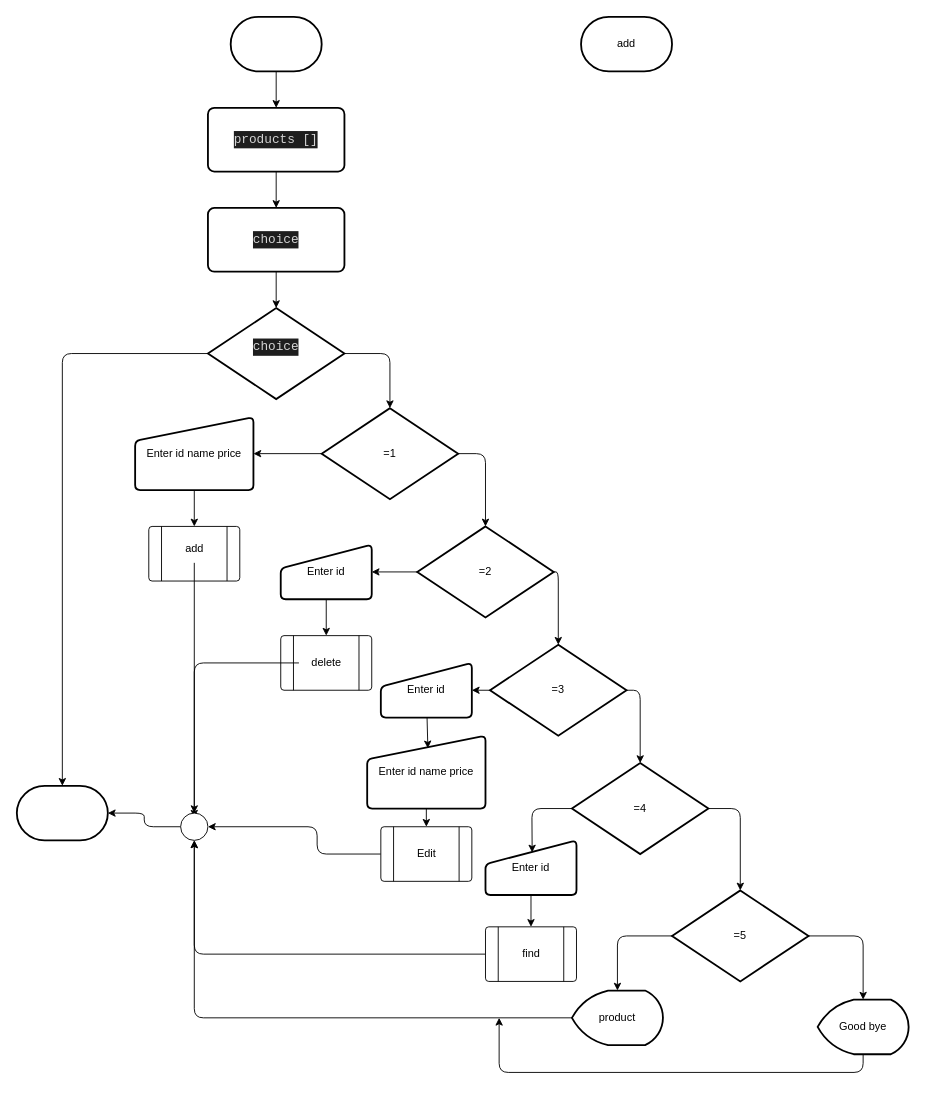
This 925x1096 diagram has some shape labels left out. The shapes that lost their labels are listed below. From the top down, each one's centre as x and y in pixels, then its label:
At (275,43): "start".
At (61,812): "end".
